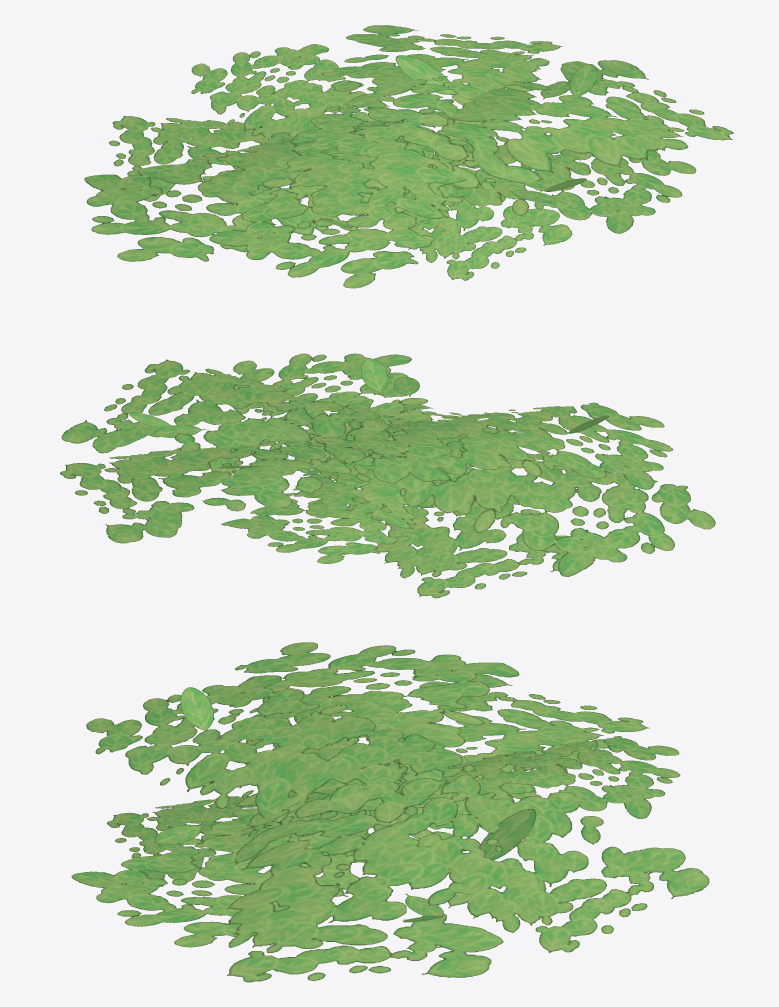
The model's file is LeafSetE_11.fbx.
3 views of the same model, one above another, from view 1: azimuth 30°, elevation 25°; view 2: azimuth 150°, elevation 25°; view 3: azimuth 270°, elevation 25° (orthographic). The views are drawn at different scales.
Parts seen in each view (by area): view 1: LeafSetE_11; view 2: LeafSetE_11; view 3: LeafSetE_11.
Boxes of the visible parts, x1,y1,x2,y2 form: LeafSetE_11: (84, 25, 733, 288); LeafSetE_11: (60, 353, 715, 598); LeafSetE_11: (71, 642, 709, 982).
Bounding box in the file's own units: 1.51 × 0.171 × 1.35.
